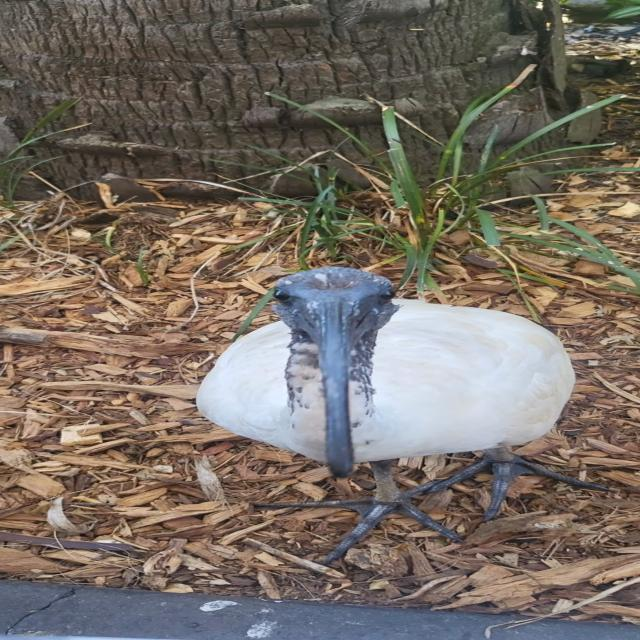Birds-Ibis: (187, 263, 621, 571)
